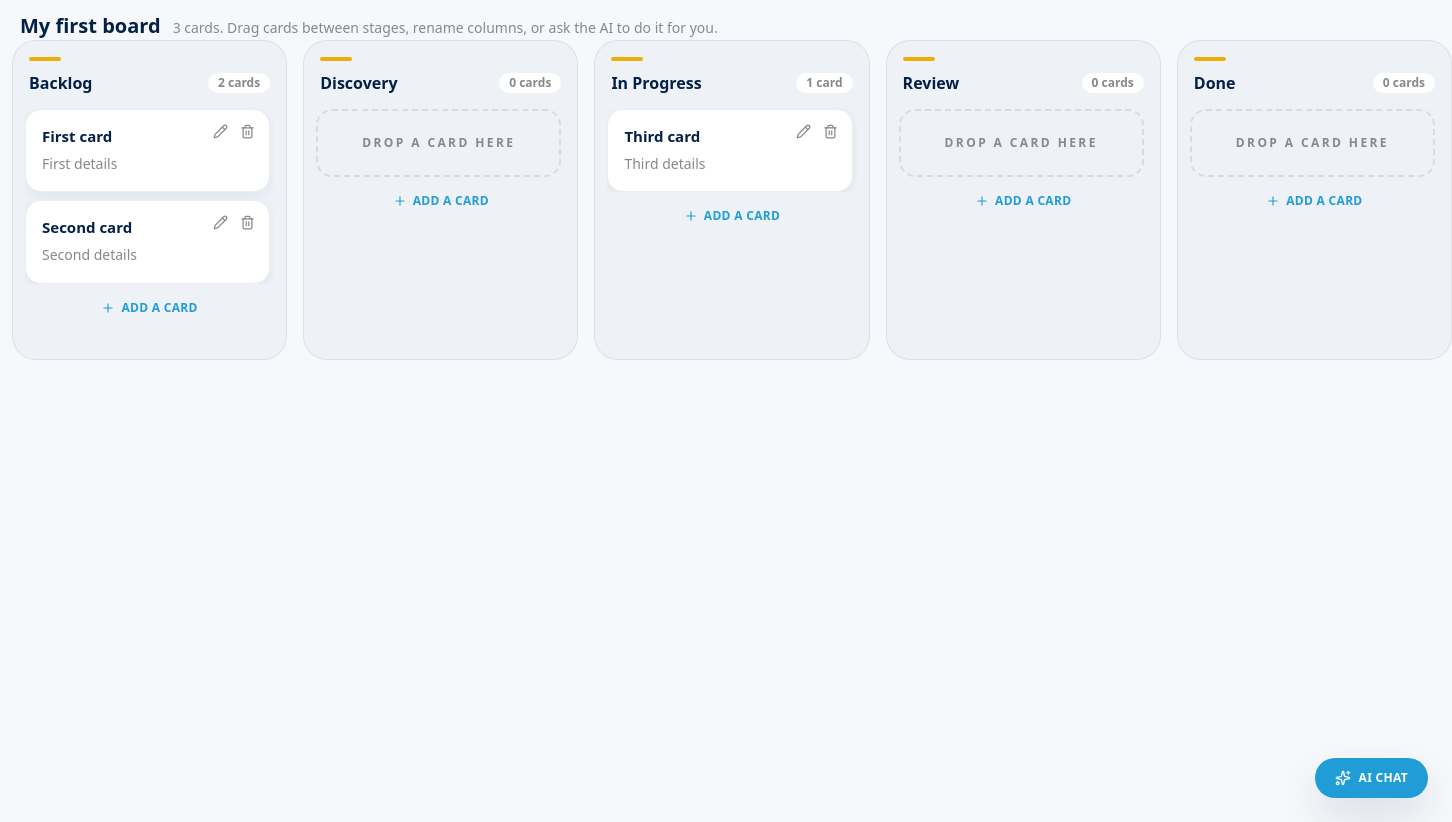
Test case: KanbanBoard › shows an error when a save fails, and clears it once a save succeeds
Click the button named "Delete First card" at (248, 132), box left=234, top=118, right=261, bottom=145
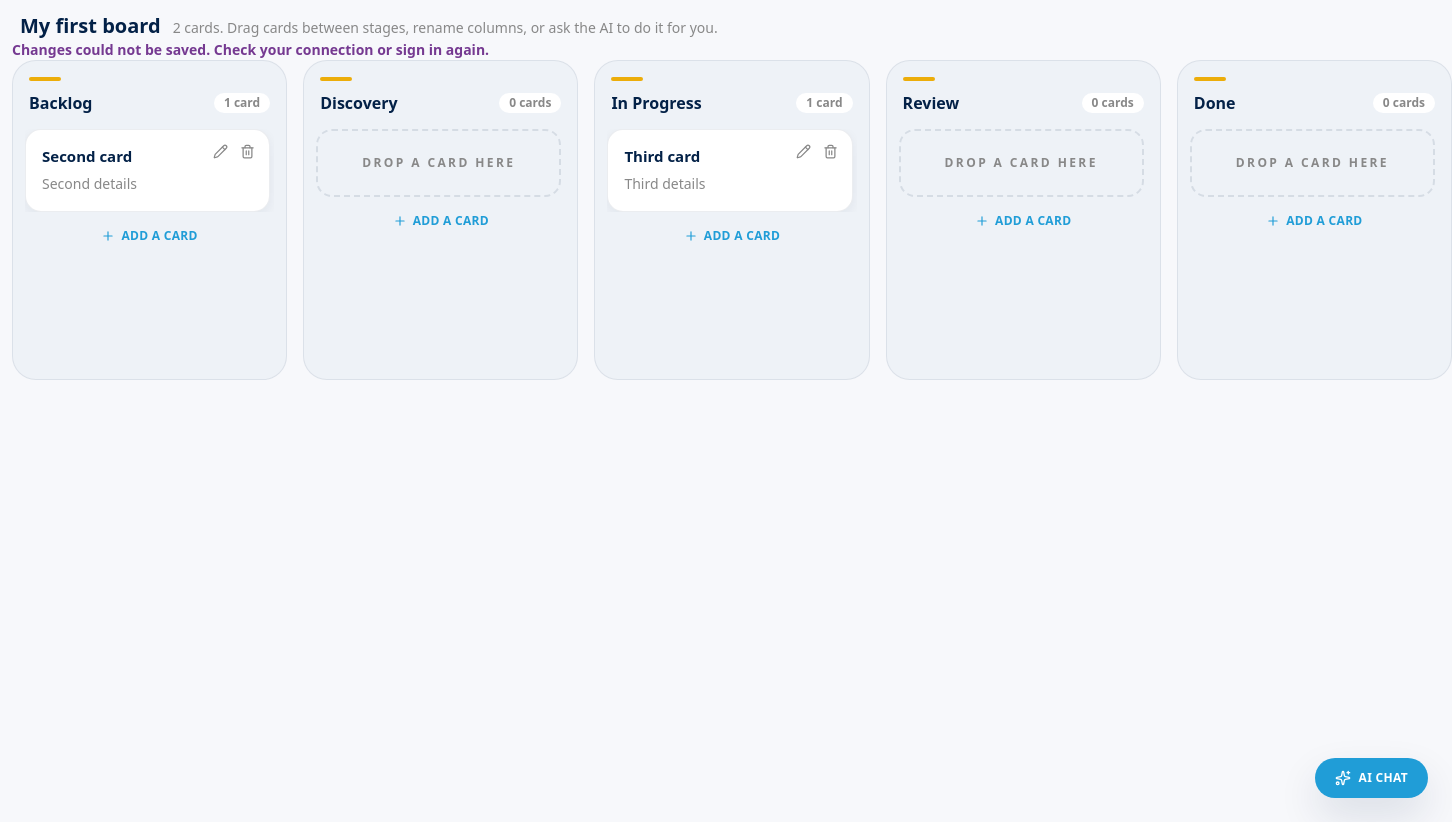
Expected: the message shows "Changes could not be saved", left=12, top=40, right=489, bottom=59
Click the button named "Delete Second card" at (248, 152), box left=234, top=138, right=261, bottom=165
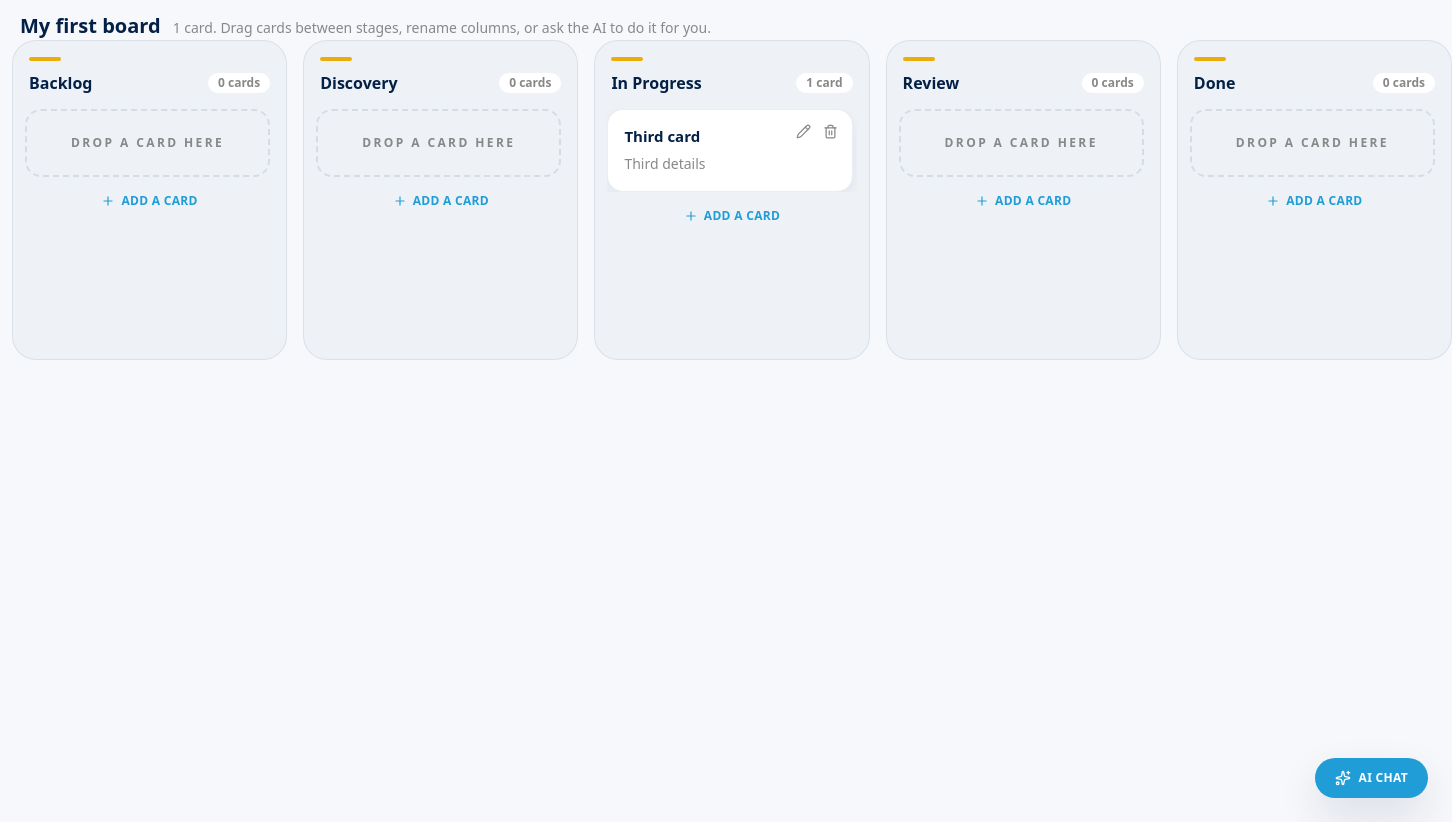
Expected: the message "Changes could not be saved. Check your connection or sign in again." is gone
